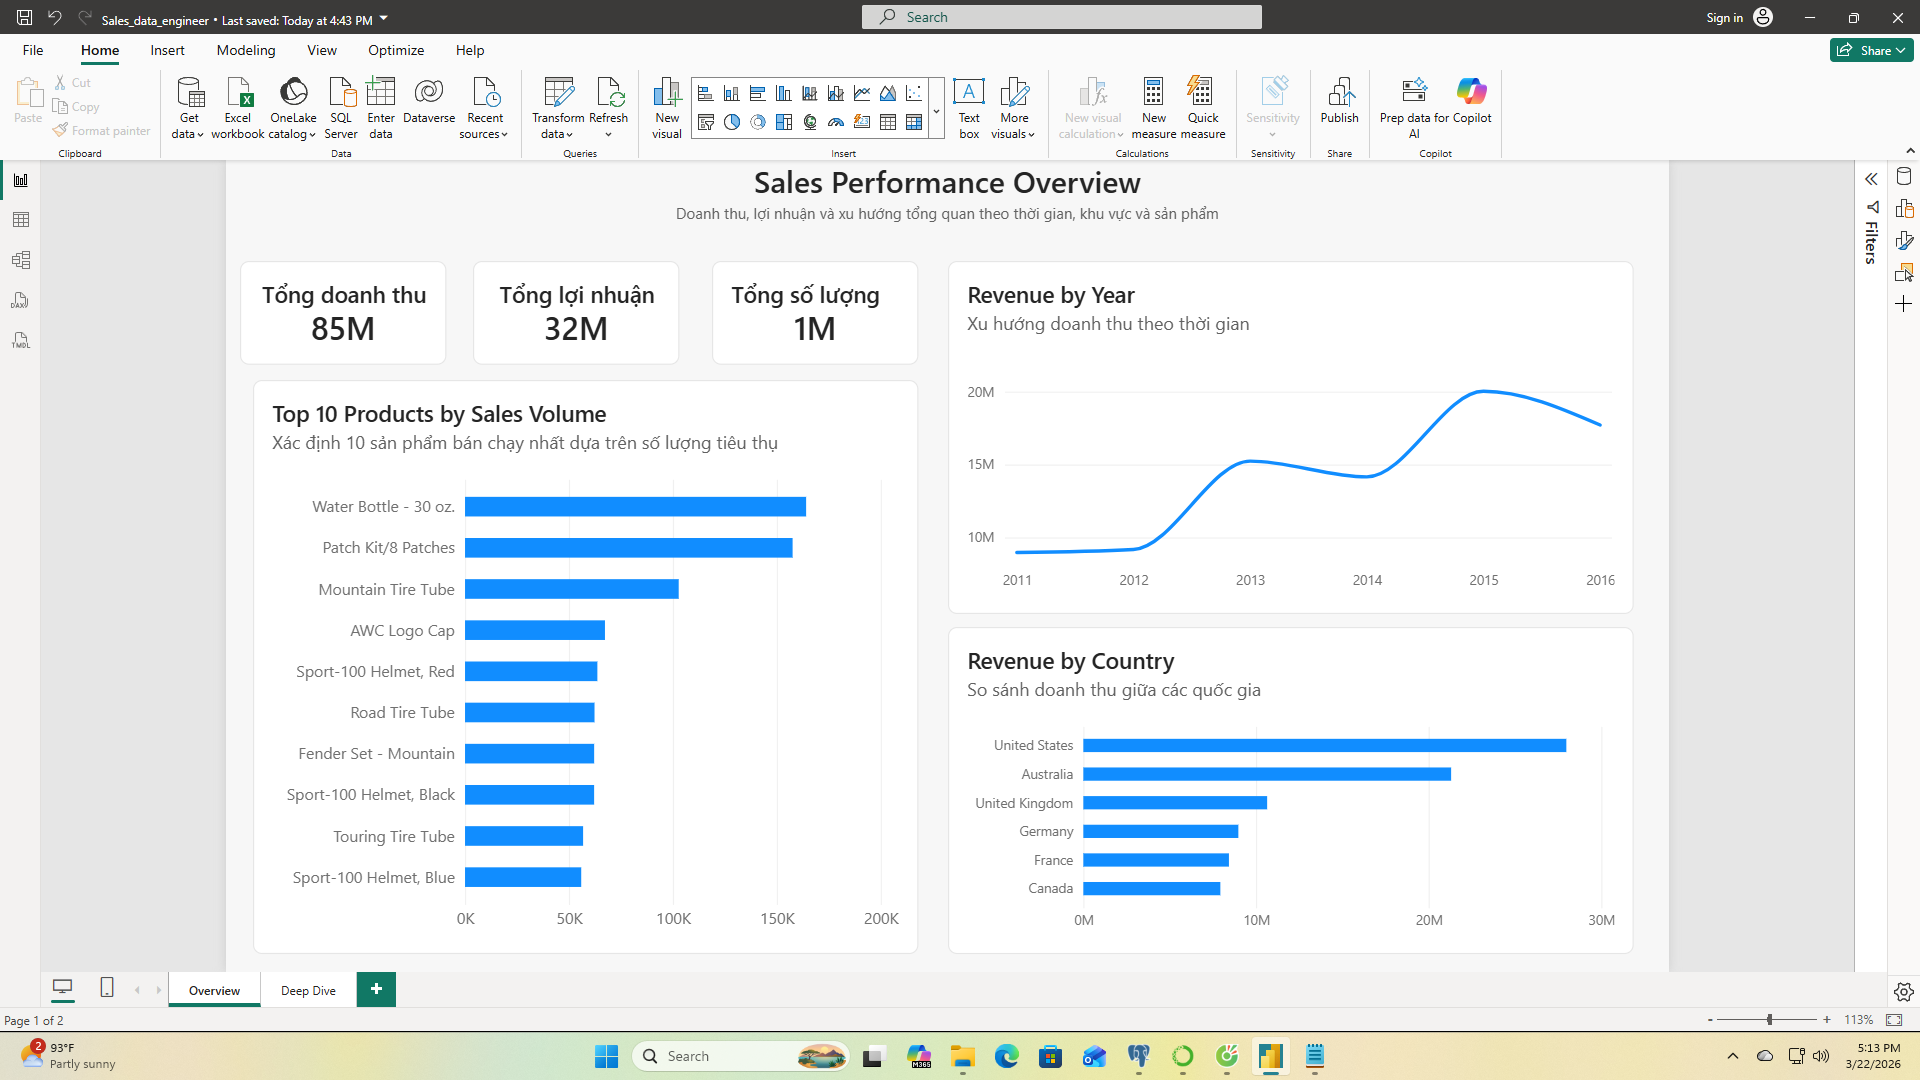

What the dashboard file says about the page in this screenshot:
{"tool":"powerbi","page":{"name":"Overview ","canvas":[1280,720],"ordinal":0},"visuals":[{"type":"card","title":"Tổng doanh thu","fields":{"Values":["public fact_sales.Total Revenue"]},"box":[12.4,89.6,182.7,92.2],"z":0},{"type":"card","title":"Tổng lợi nhuận","fields":{"Values":["public fact_sales.Total Profit"]},"box":[219,89.6,182.7,92.2],"z":1000},{"type":"card","title":"Tổng số lượng","fields":{"Values":["public fact_sales.Total Quantity"]},"box":[430.9,89.6,182.7,92.2],"z":2000},{"type":"lineChart","title":"Revenue by Year","fields":{"Category":["public dim_date.year"],"Y":["public fact_sales.Total Revenue"]},"box":[640.2,89.6,608.3,313],"z":3000},{"type":"clusteredBarChart","title":"Revenue by Country","fields":{"Category":["public dim_location.country"],"Y":["public fact_sales.Total Revenue"]},"box":[640.2,414.1,608.3,290],"z":4000},{"type":"clusteredBarChart","title":"Top 10 Products by Sales Volume","fields":{"Category":["public dim_product.product"],"Y":["public fact_sales.Total Quantity"]},"box":[23.9,195.1,589.7,509],"z":5000},{"type":"textbox","title":"Sales Performance Overview","box":[357.3,0,564.8,101.1],"z":5001}]}

Visuals, with their boxes on the page's 1280x720 design canvas (x1, y1, x2, y2). These are canvas units, not pixel positions in the 1920x1080 screenshot, which may show the page scaled, cropped or inside an application window:
"Tổng doanh thu" card: (12,90,195,182)
"Tổng lợi nhuận" card: (219,90,402,182)
"Tổng số lượng" card: (431,90,614,182)
"Revenue by Year" lineChart: (640,90,1248,403)
"Revenue by Country" clusteredBarChart: (640,414,1248,704)
"Top 10 Products by Sales Volume" clusteredBarChart: (24,195,614,704)
"Sales Performance Overview" textbox: (357,0,922,101)
